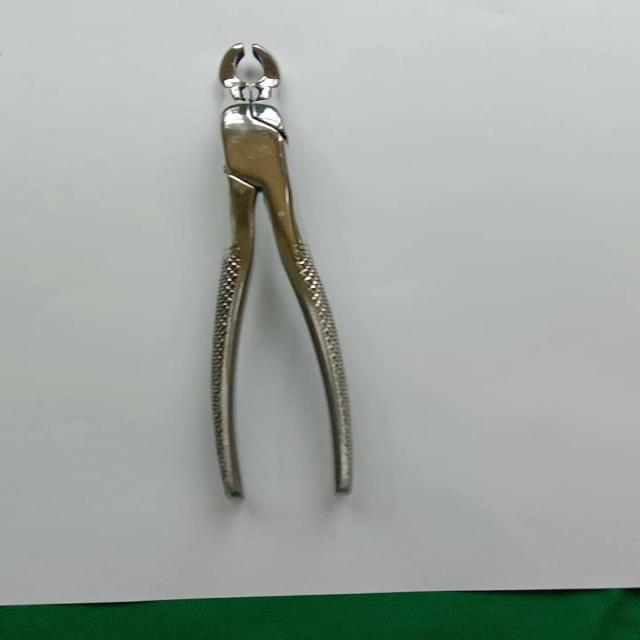BayonetForcep: (187, 41, 370, 506)
